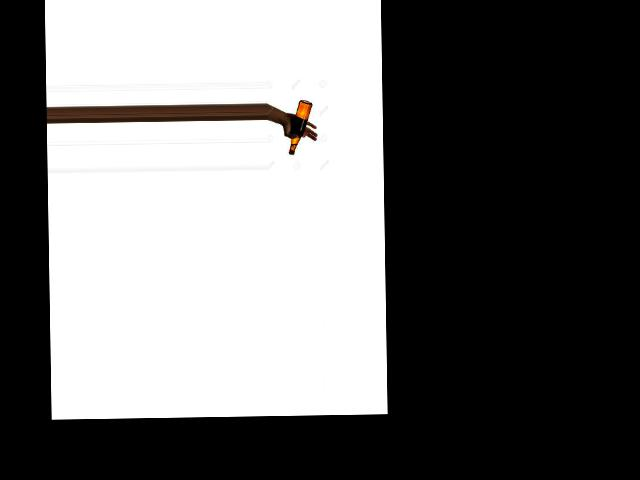beer: (288, 99, 312, 153)
